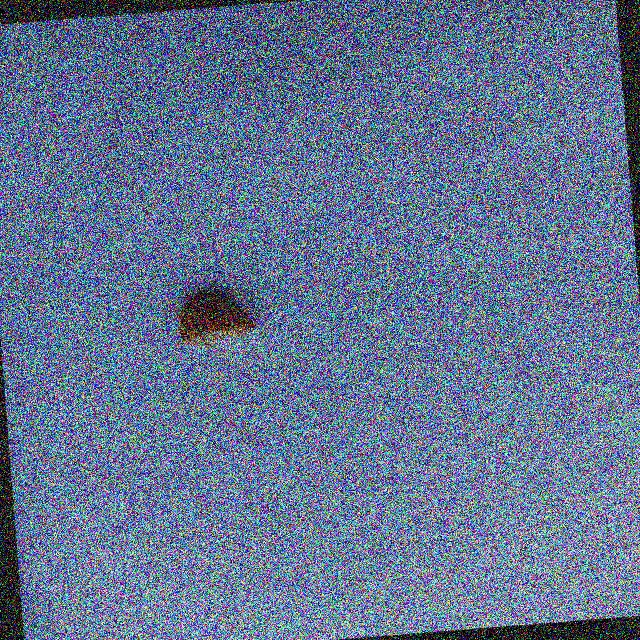grade4: (169, 283, 265, 352)
